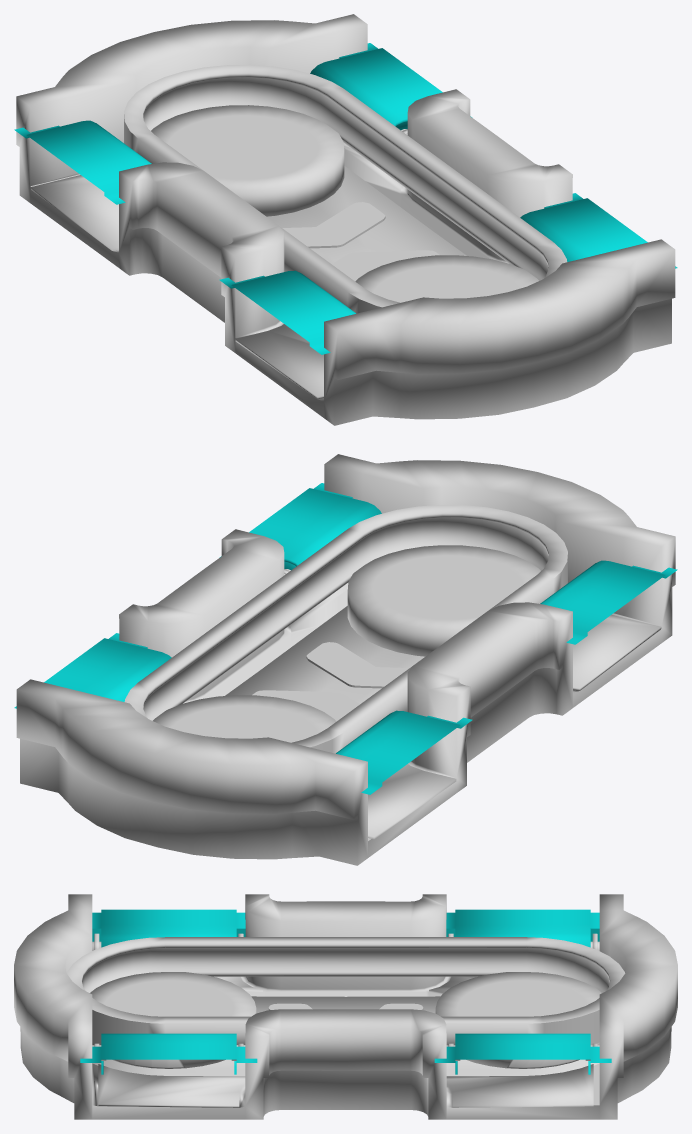
Rendered from HalvesSwapperDefaultInternalVariant.gltf.
3 renders of one model, top to bottom at view 1: azimuth 30°, elevation 25°; view 2: azimuth 150°, elevation 25°; view 3: azimuth 270°, elevation 25°, orthographic. The views are drawn at different scales.
Visible parts, largest first — view 1: HalvesSwapper_Default_Main_LOD0, HalvesSwapper_Default_Ribbon_LOD0; view 2: HalvesSwapper_Default_Main_LOD0, HalvesSwapper_Default_Ribbon_LOD0; view 3: HalvesSwapper_Default_Main_LOD0, HalvesSwapper_Default_Ribbon_LOD0.
Part boxes in pixels (<box>): HalvesSwapper_Default_Main_LOD0: <box>14,14,677,425</box>; HalvesSwapper_Default_Ribbon_LOD0: <box>124,64,567,313</box>; HalvesSwapper_Default_Main_LOD0: <box>14,454,677,865</box>; HalvesSwapper_Default_Ribbon_LOD0: <box>124,505,567,753</box>; HalvesSwapper_Default_Main_LOD0: <box>14,894,677,1119</box>; HalvesSwapper_Default_Ribbon_LOD0: <box>67,937,625,1044</box>.
Size of the model in its own units: 1 by 0.2792 by 1.88.
